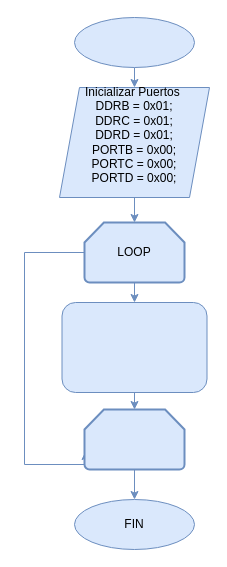
Some shapes in this 227 by 567 pixel diagram are drawn without their labels. The box of each missing label's shape, as (x1, y1, x2, y2) in pixels:
Encender LED's PORTB = 0x01; PORTC = 0x01; PORTD = 0x01;: (61, 302, 207, 392)
INICIO: (74, 16, 194, 68)
